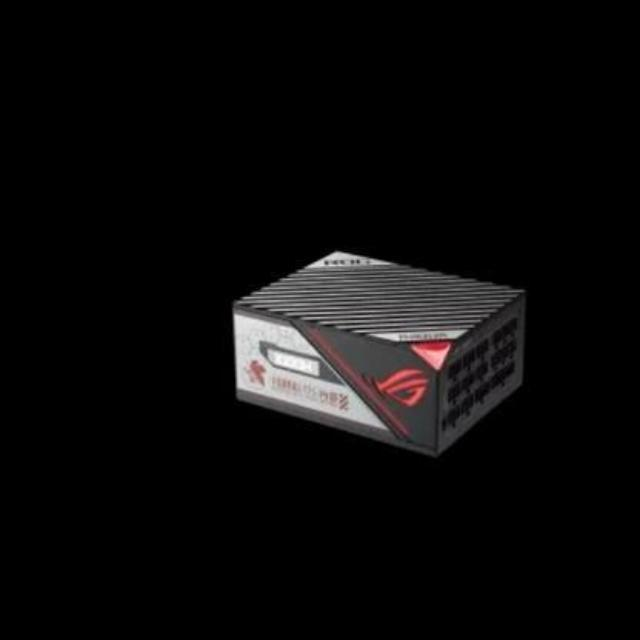PSU: (223, 235, 529, 467)
